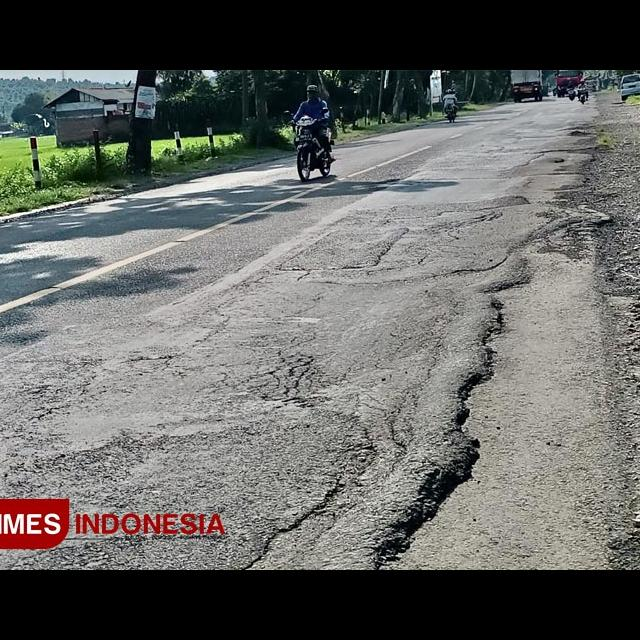retak_kulit_buaya: (240, 345, 311, 406)
